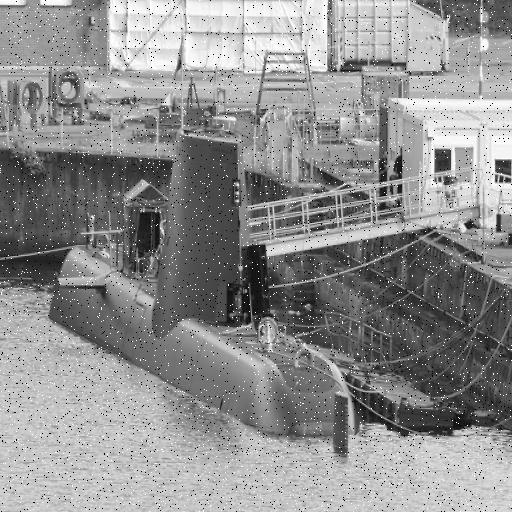submarine: (42, 130, 371, 436)
